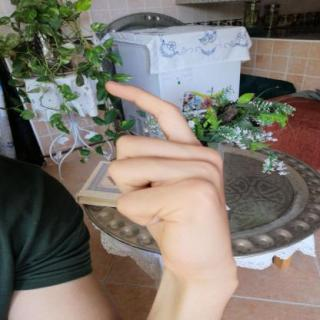RAA: (92, 72, 248, 288)
